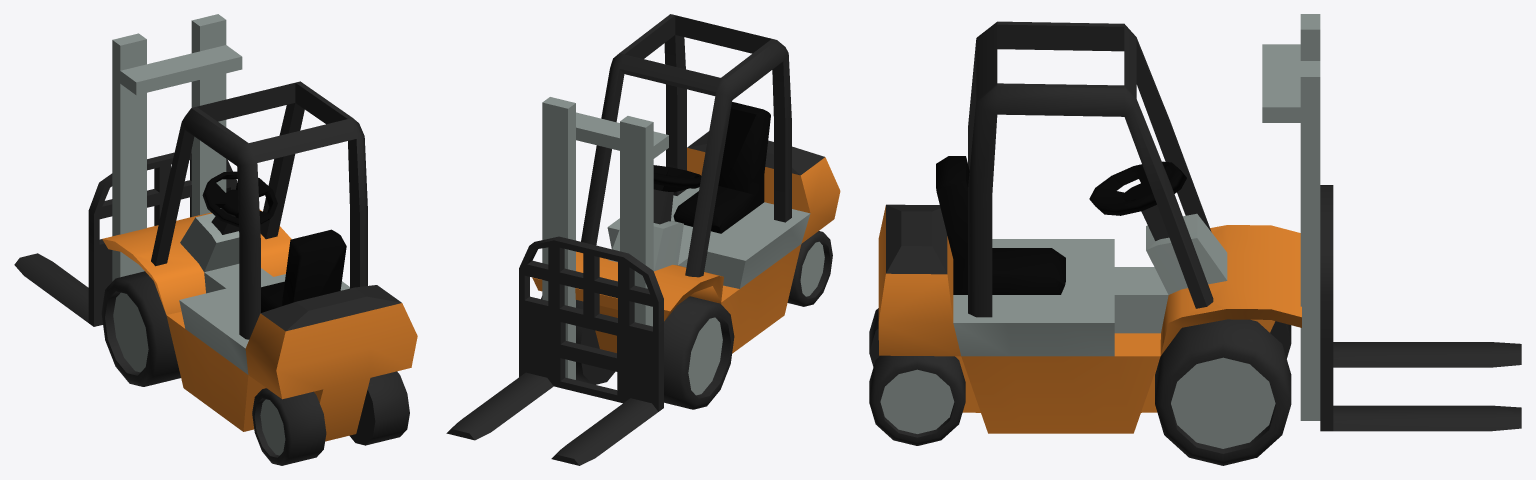
Rendered from Environment2_Cover_Forklift.fbx.
3 renders of one model, left to right at view 1: azimuth 30°, elevation 25°; view 2: azimuth 150°, elevation 25°; view 3: azimuth 270°, elevation 25°, orthographic. The views are drawn at different scales.
Visible parts, largest first — view 1: ForkLift, Wheel, ForkliftFront, SWheel.001, SWheel, SteerWheel; view 2: ForkLift, ForkliftFront, Wheel, SWheel.001, Wheel.001, SteerWheel; view 3: ForkLift, Wheel.001, ForkliftFront, SWheel, SteerWheel.
Boxes of the visible parts, x1,y1,x2,y2 form: ForkLift: (102, 14, 417, 441); Wheel: (101, 271, 180, 386); ForkliftFront: (14, 150, 236, 326); SWheel.001: (252, 388, 326, 465); SWheel: (349, 371, 409, 445); SteerWheel: (202, 171, 277, 227); ForkLift: (532, 14, 840, 379); ForkliftFront: (446, 236, 663, 465); Wheel: (664, 296, 734, 409); SWheel.001: (787, 231, 832, 306); Wheel.001: (541, 296, 615, 384); SteerWheel: (653, 165, 701, 192); ForkLift: (878, 14, 1320, 433); Wheel.001: (1155, 319, 1291, 465); ForkliftFront: (1320, 185, 1521, 431); SWheel: (869, 355, 965, 445); SteerWheel: (1089, 161, 1186, 215).
Size of the model in its own units: 3.39 by 6.38 by 10.04.
